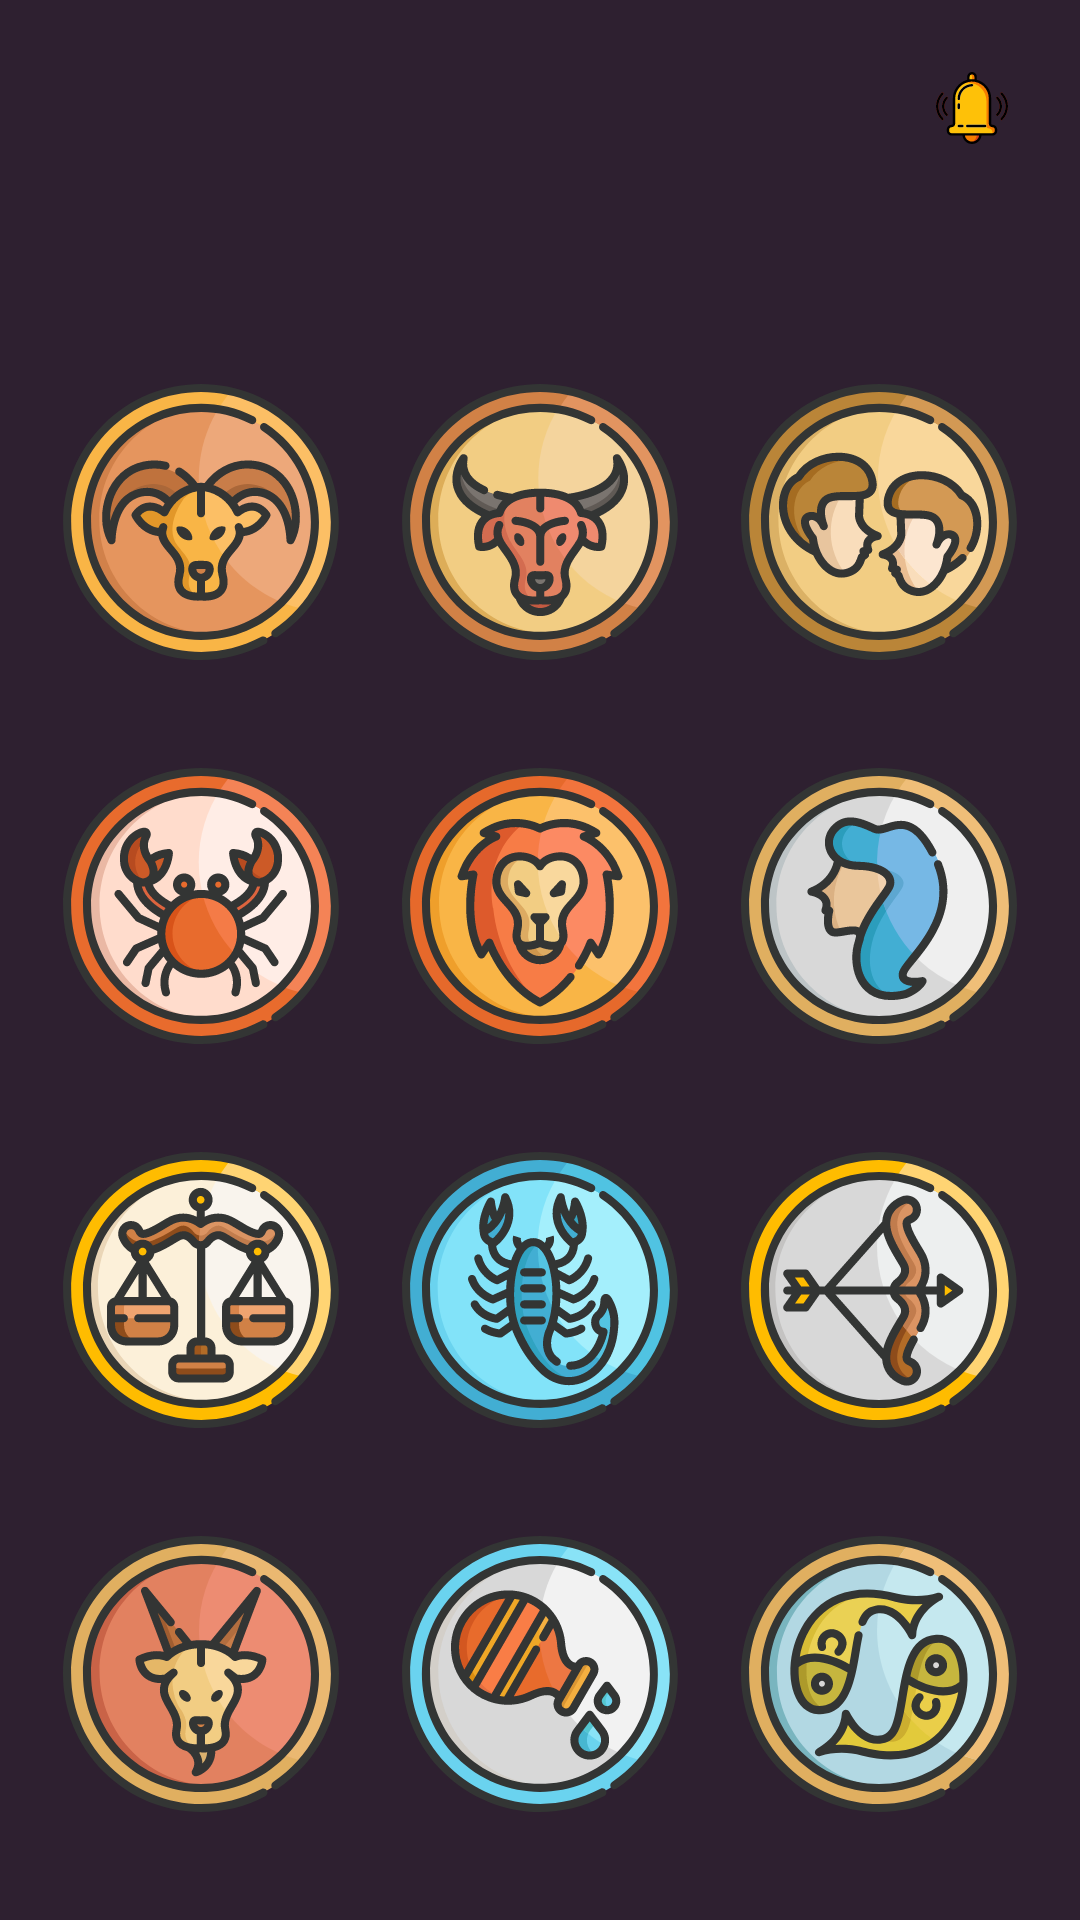

Named icons in this screenshot (1080px x 1920px) and their centers, point (x, y):
aquarius: point (540, 1674)
aries: point (201, 522)
bell: point (972, 108)
cancer: point (201, 906)
capricorn: point (201, 1674)
gemini: point (879, 522)
leo: point (540, 906)
libra: point (201, 1290)
pisces: point (879, 1674)
sagittarius: point (879, 1290)
scorpio: point (540, 1290)
taurus: point (540, 522)
virgo: point (879, 906)
